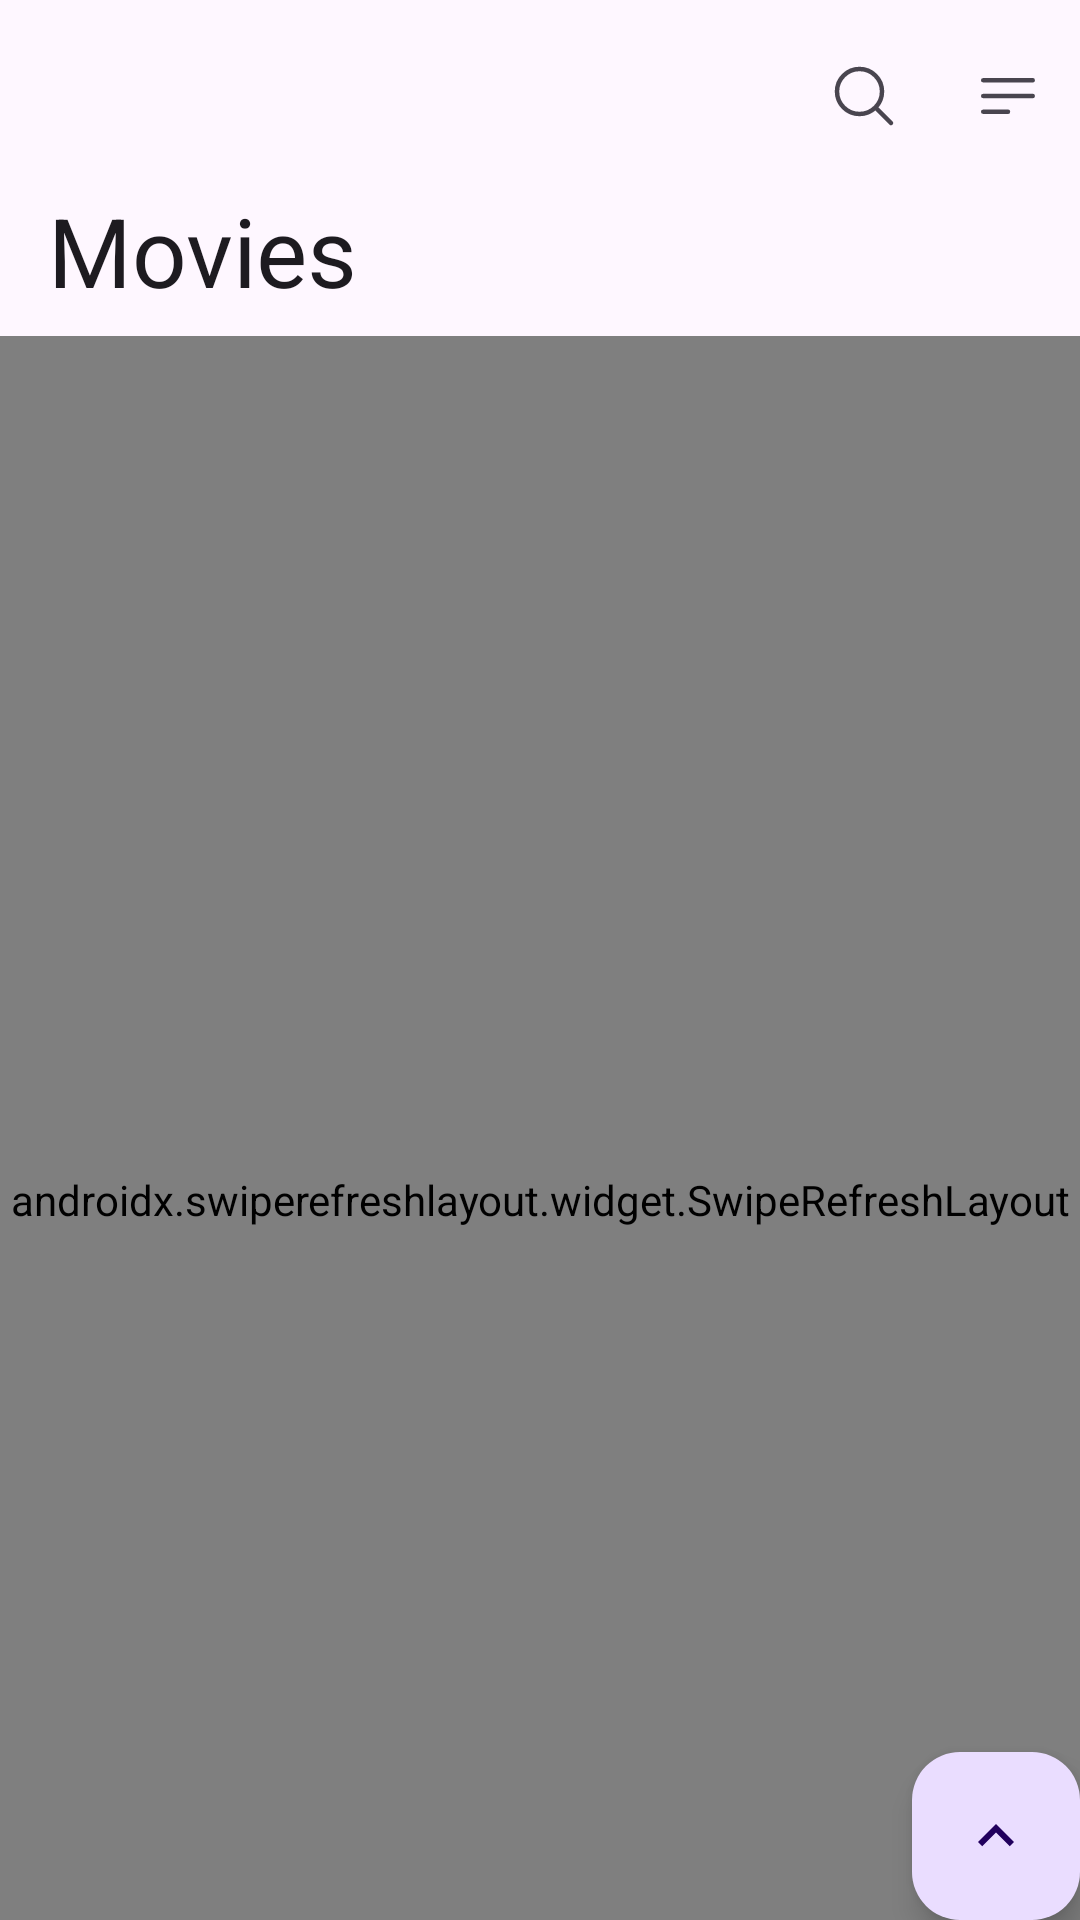

Point at icon controls on the screen. Image size 1080×1920, points as point (x, y).
Scroll up: point (996, 1836)
